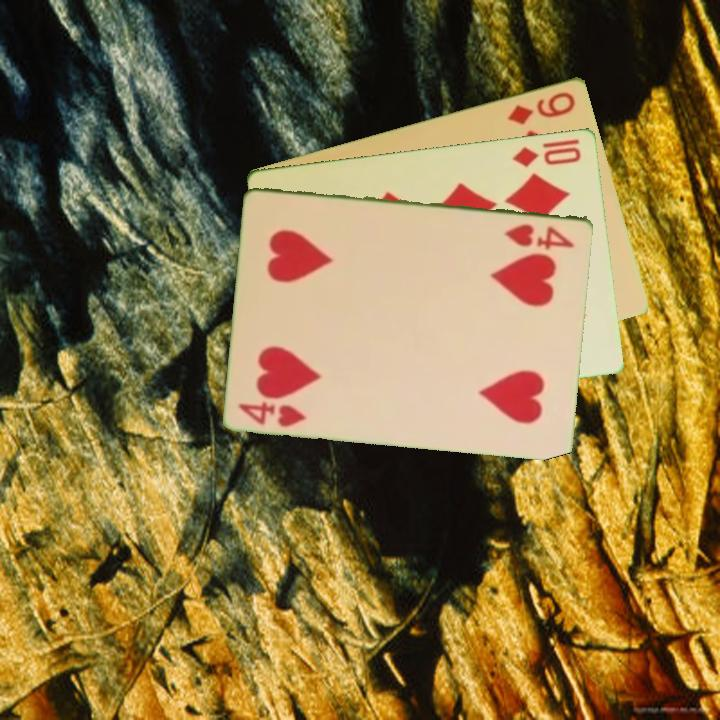10d: (509, 135, 584, 170)
4h: (235, 397, 310, 430), (501, 220, 578, 250)
9d: (504, 87, 579, 127)
